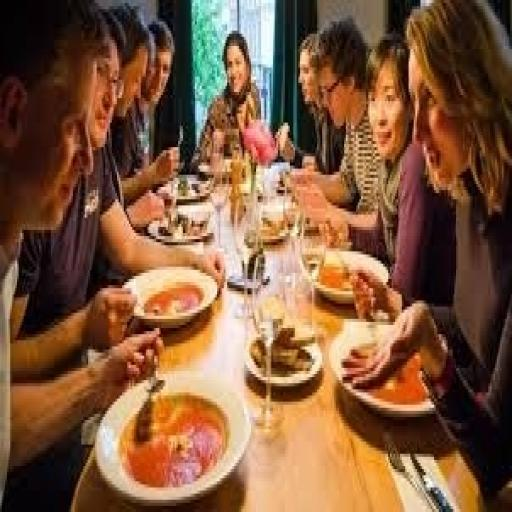eating: (2, 3, 508, 503)
